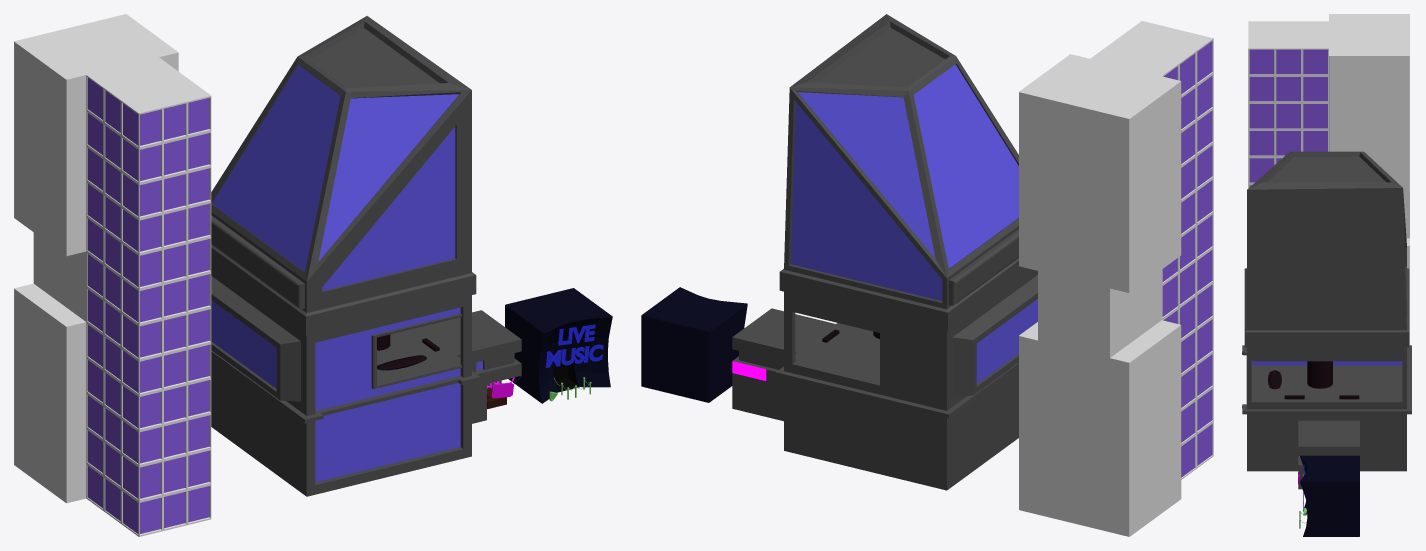
File: Budlings_Ala_Arttu.2 ElectricBoogaloo.fbx
The picture shows the model from 3 angles, left to right: view 1: azimuth 30°, elevation 25°; view 2: azimuth 150°, elevation 25°; view 3: azimuth 270°, elevation 25°; orthographic projection. The views are drawn at different scales.
Visible parts, largest first — view 1: WonkScraper, WonkySkyScraper, NightCLub, Newnew; view 2: WonkScraper, WonkySkyScraper, NightCLub, Newnew; view 3: WonkScraper, WonkySkyScraper, NightCLub, Newnew.
Part boxes in pixels (box(x1,y1,x2,y2)): WonkScraper: box(211, 16, 480, 496); WonkySkyScraper: box(14, 14, 211, 536); NightCLub: box(505, 288, 612, 403); Newnew: box(419, 310, 521, 423); WonkScraper: box(775, 14, 1037, 490); WonkySkyScraper: box(1019, 21, 1213, 536); NightCLub: box(641, 287, 747, 402); Newnew: box(732, 308, 835, 421); WonkScraper: box(1242, 151, 1411, 471); WonkySkyScraper: box(1248, 14, 1409, 345); NightCLub: box(1299, 455, 1359, 536); Newnew: box(1298, 420, 1359, 489).
Bounding box in the file's own units: 1524 × 1169 × 553.
